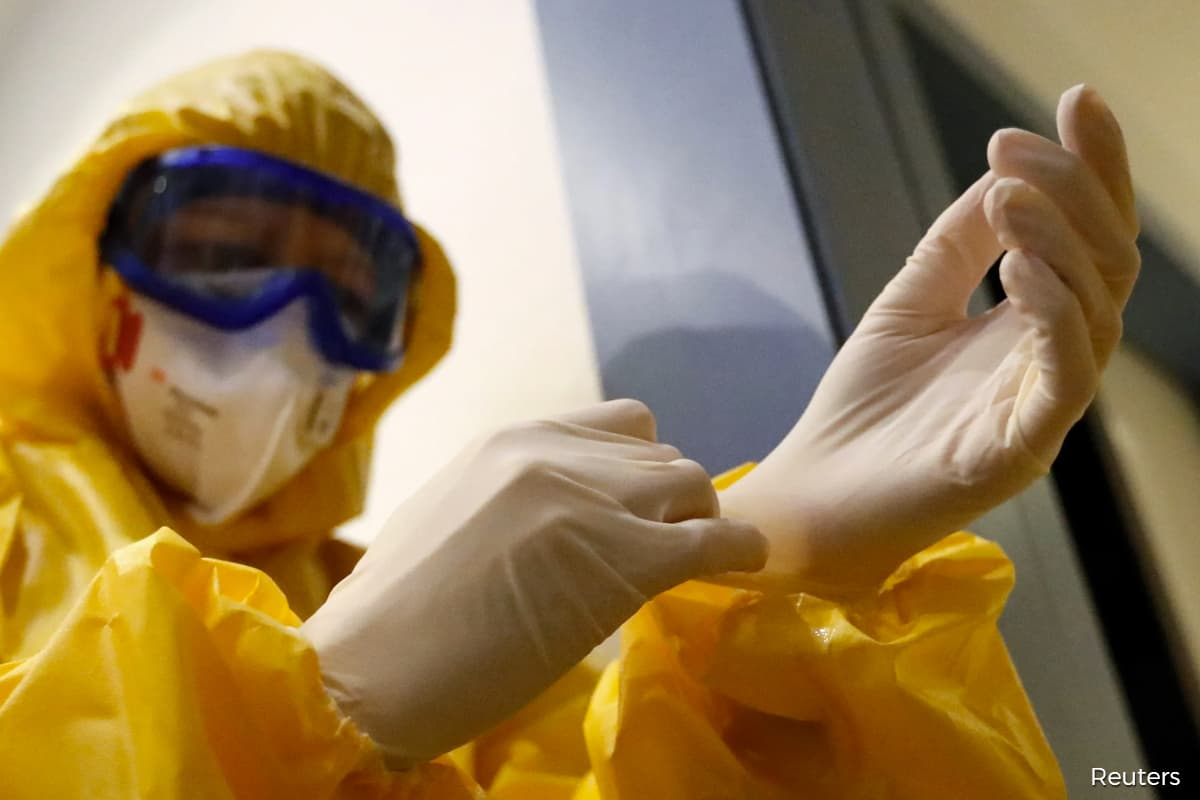Gloves: (755, 79, 1139, 545), (314, 384, 745, 754)
Goggles: (92, 141, 440, 378)
